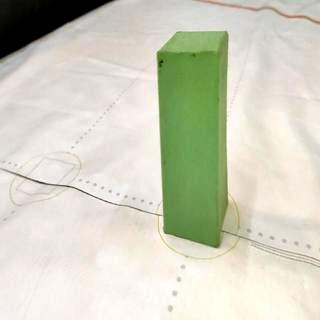greenbox: (158, 28, 230, 250)
